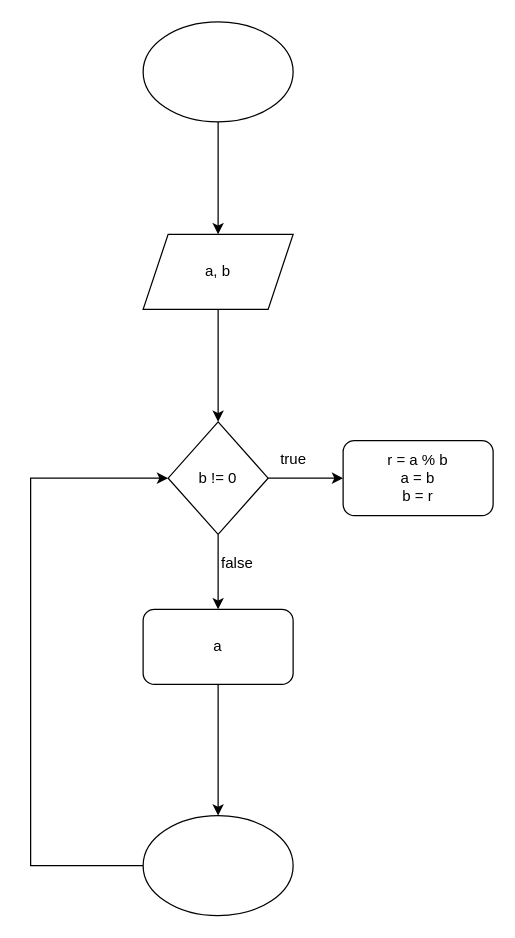
This 515x938 diagram has some shape labels left out. Here are the shapes that lost their labels. From the top down, the centre of each, then its label:
At point 217,71: "Begin".
At point 217,865: "End".
